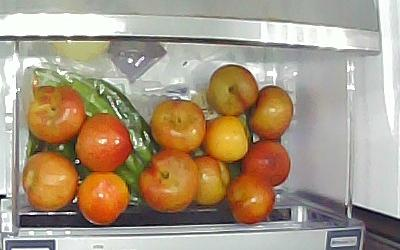prune: (138, 149, 200, 213), (75, 114, 133, 173), (26, 86, 83, 144), (23, 152, 77, 211), (77, 173, 131, 227), (150, 99, 205, 152), (208, 64, 258, 116), (226, 175, 277, 224), (251, 86, 294, 141), (241, 141, 291, 188), (203, 116, 248, 162), (192, 157, 232, 206)
